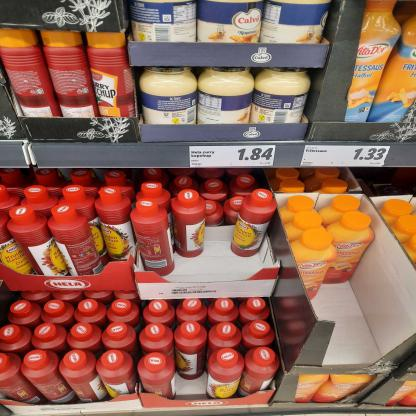prtg: (190, 146, 277, 168), (301, 146, 391, 167)
